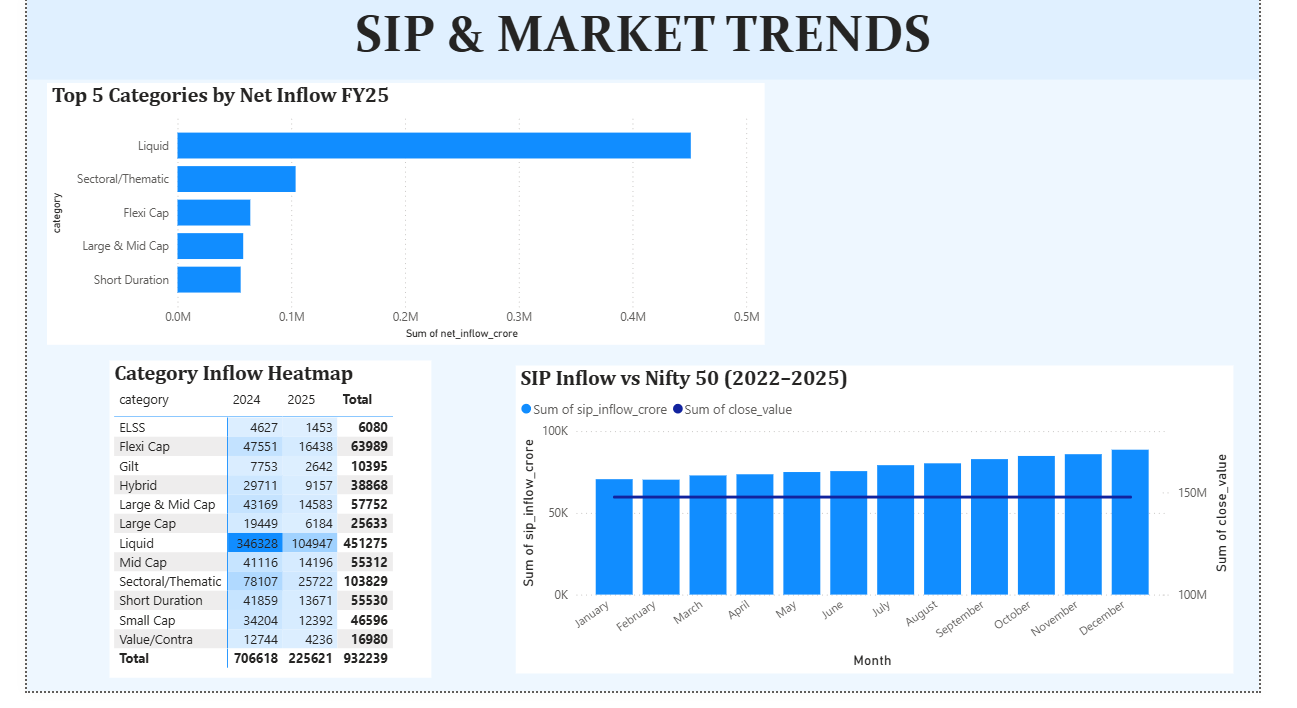

What the dashboard file says about the page in this screenshot:
{"tool":"powerbi","page":{"name":"SIP & Market Trends","canvas":[1280,720],"ordinal":3},"visuals":[{"type":"lineClusteredColumnComboChart","title":"SIP Inflow vs Nifty 50 (2022–2025)","fields":{"Category":["04_monthly_sip_inflows.month.Variation.Date Hierarchy.Month"],"Y":["Sum(04_monthly_sip_inflows.sip_inflow_crore)"],"Y2":["Sum(10_benchmark_indices.close_value)"]},"box":[507.4,381.5,745.7,319.8],"z":0},{"type":"textbox","box":[0,0,1280,84.6],"z":1},{"type":"pivotTable","title":"Category Inflow Heatmap","fields":{"Rows":["05_category_inflows.category"],"Columns":["05_category_inflows.month.Variation.Date Hierarchy.Year","05_category_inflows.month.Variation.Date Hierarchy.Quarter","05_category_inflows.month.Variation.Date Hierarchy.Month","05_category_inflows.month.Variation.Date Hierarchy.Day"],"Values":["Sum(05_category_inflows.net_inflow_crore)"]},"box":[85.2,376.5,334.6,329.6],"z":2},{"type":"clusteredBarChart","title":"Top 5 Categories by Net Inflow FY25","fields":{"Category":["05_category_inflows.category"],"Y":["Sum(05_category_inflows.net_inflow_crore)"]},"box":[21,88.9,745.7,271.6],"z":3}]}

Visuals, with their boxes on the page's 1280x720 design canvas (x1, y1, x2, y2). These are canvas units, not pixel positions in the 1297x708 screenshot, which may show the page scaled, cropped or inside an application window:
"SIP Inflow vs Nifty 50 (2022–2025)" lineClusteredColumnComboChart: <bbox>507, 382, 1253, 701</bbox>
textbox: <bbox>0, 0, 1280, 85</bbox>
"Category Inflow Heatmap" pivotTable: <bbox>85, 376, 420, 706</bbox>
"Top 5 Categories by Net Inflow FY25" clusteredBarChart: <bbox>21, 89, 767, 360</bbox>
